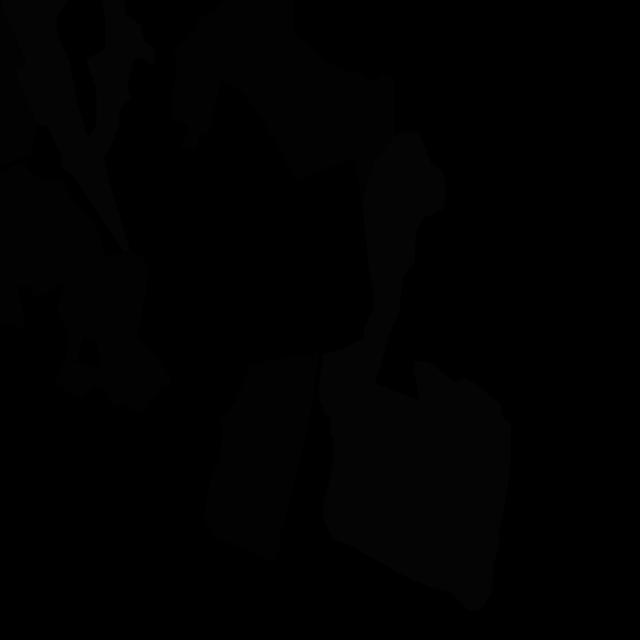cardboard: (172, 0, 395, 204), (203, 352, 320, 563), (56, 250, 171, 412), (0, 160, 106, 330), (0, 0, 37, 167), (54, 359, 103, 400)
soft_plastic: (323, 361, 511, 612), (0, 0, 155, 252), (318, 131, 446, 415)
